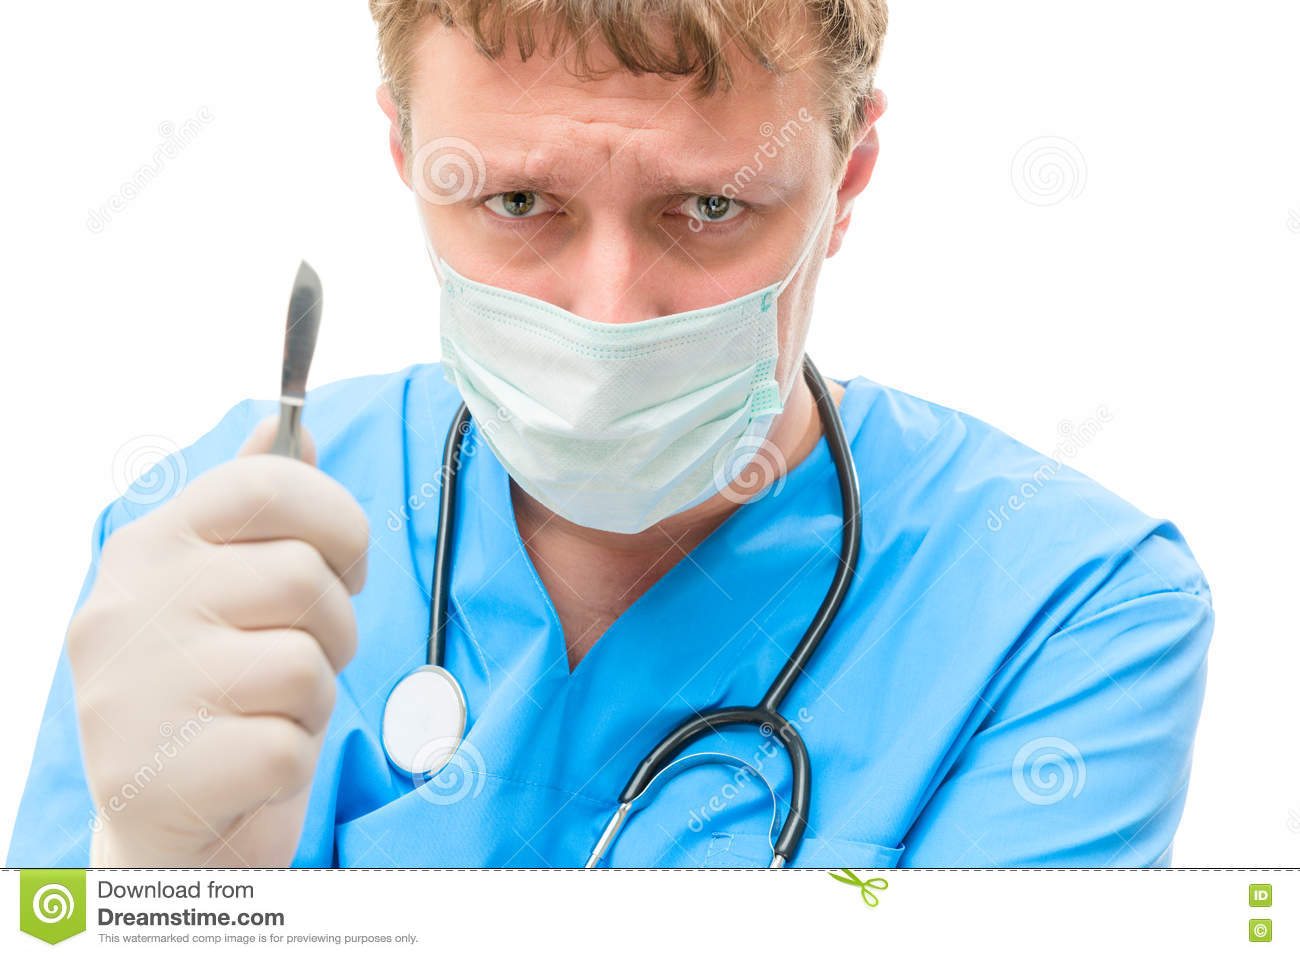mask: (426, 276, 801, 535)
